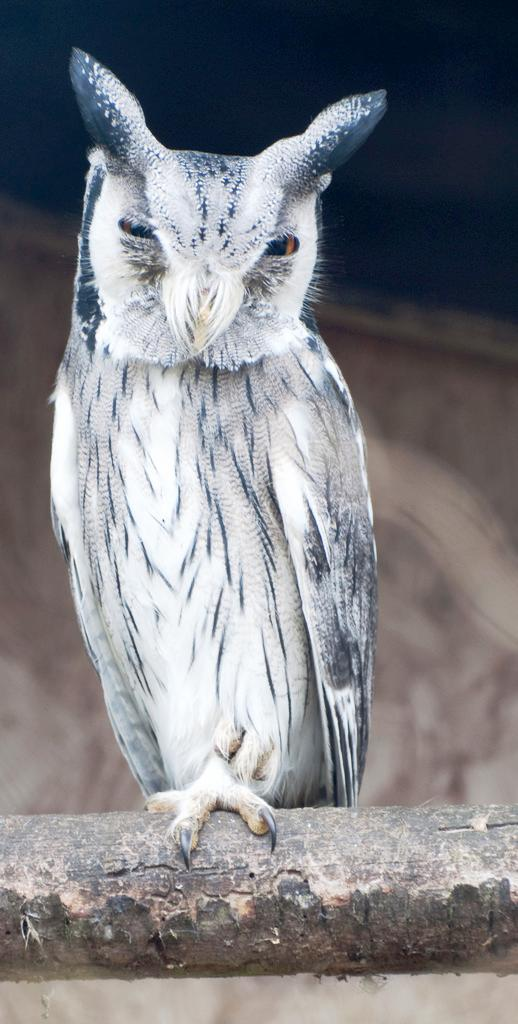Owl: (36, 47, 400, 860)
